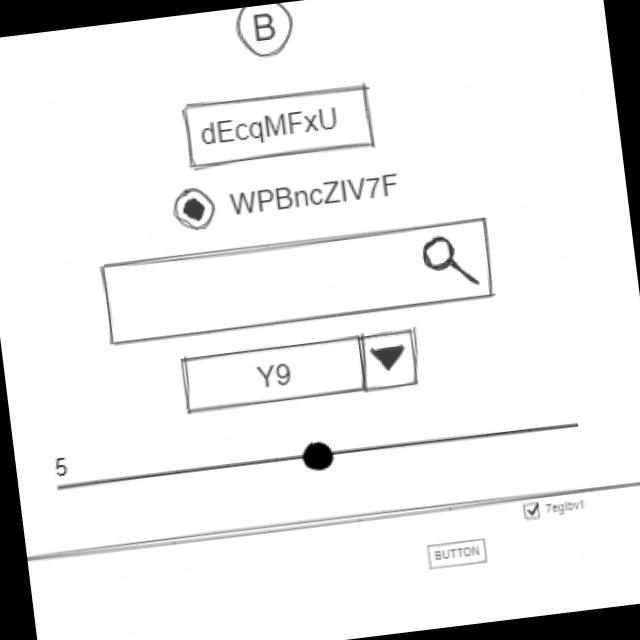button: (425, 535, 491, 572)
checkbox: (521, 495, 589, 523)
container: (27, 474, 640, 640)
icon-button: (230, 2, 301, 63)
input: (179, 80, 382, 173)
radio: (170, 162, 405, 236)
search: (98, 215, 500, 350)
select: (176, 326, 426, 418)
slider: (72, 406, 585, 505)
